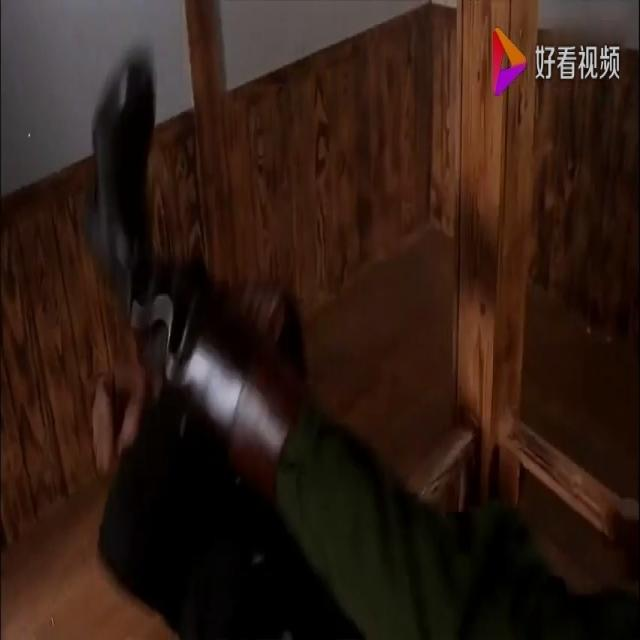fight: (82, 39, 638, 640)
